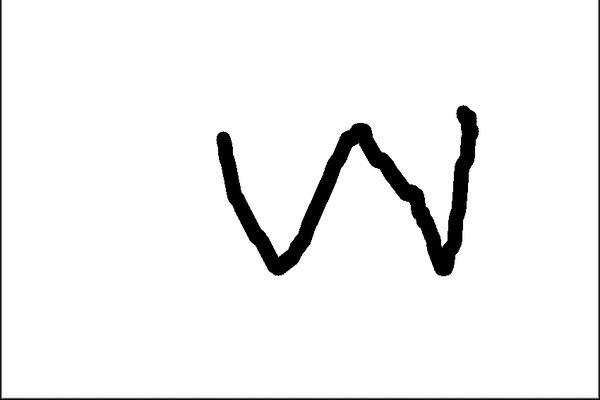w: (188, 96, 493, 292)
